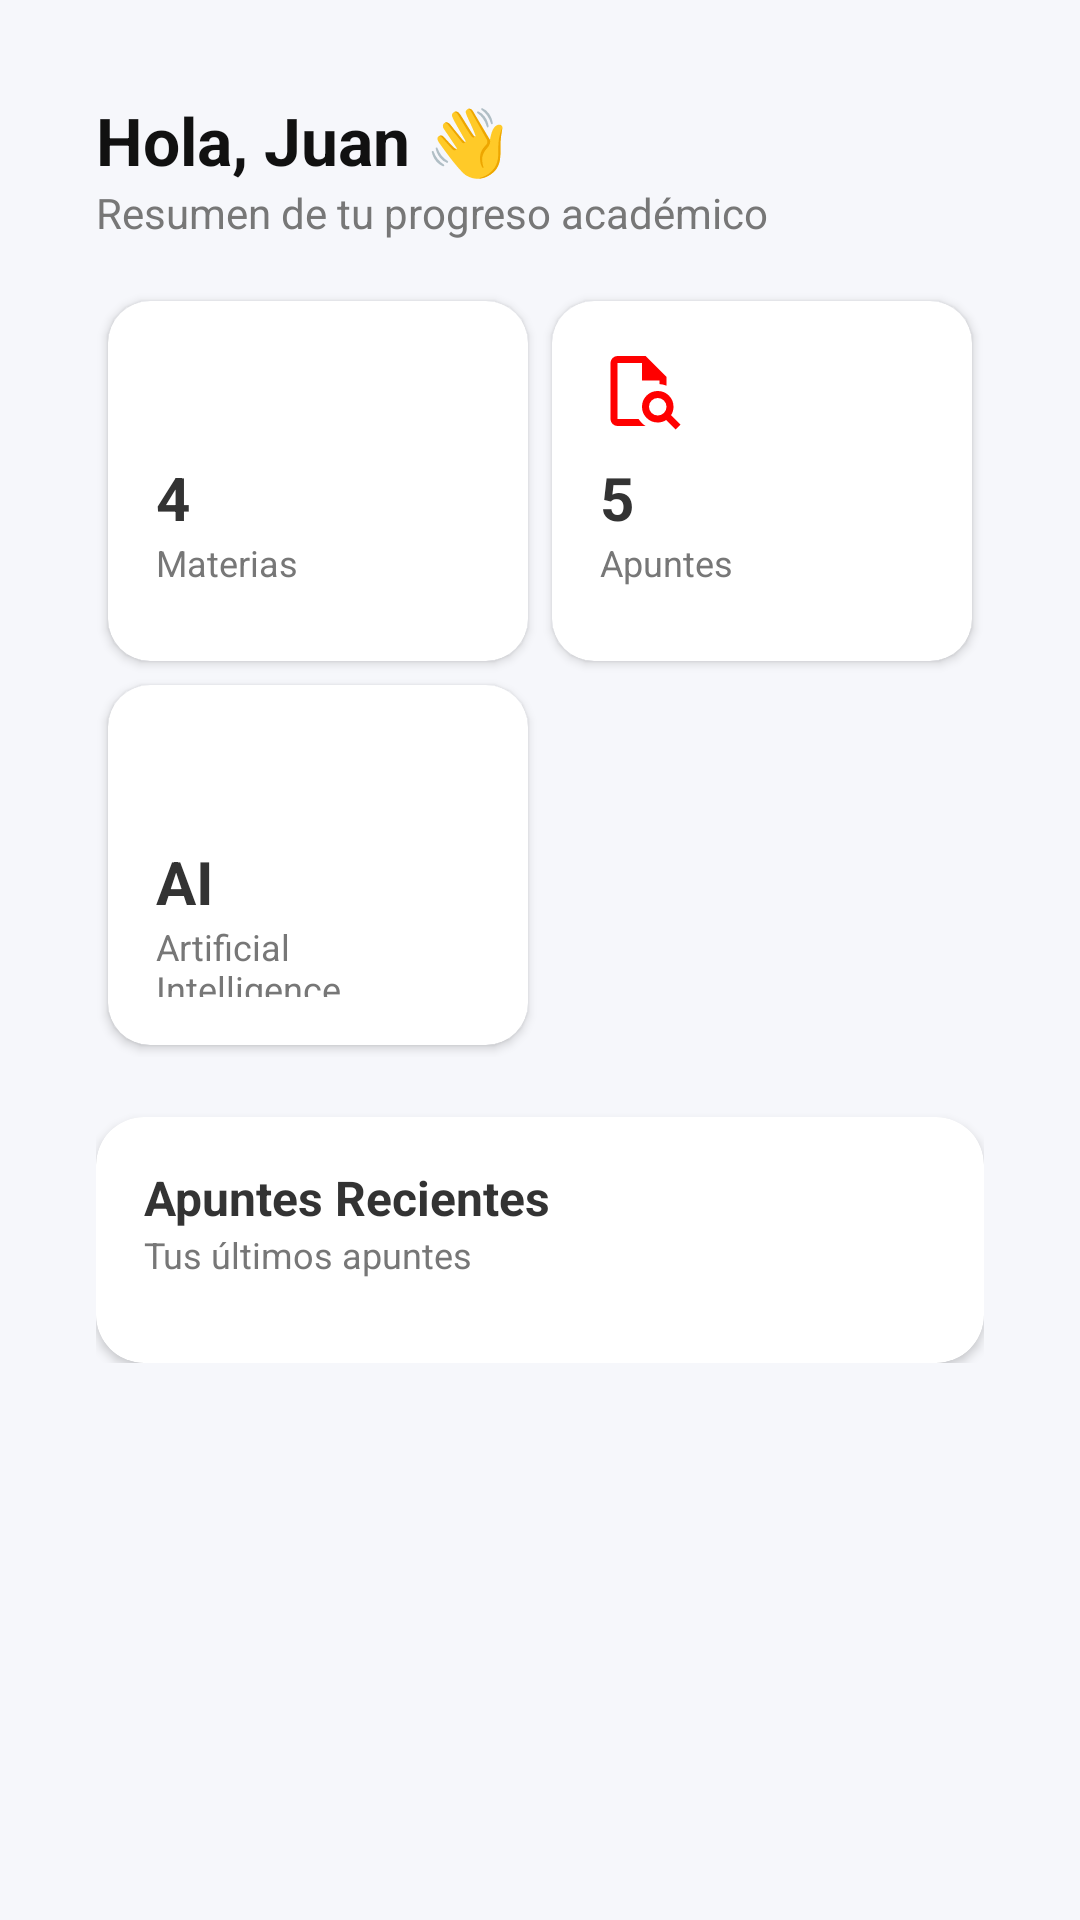

Point at icon controls on the screen. Image size 1080 × 1920, points as [x,y].
document: [645,393]
